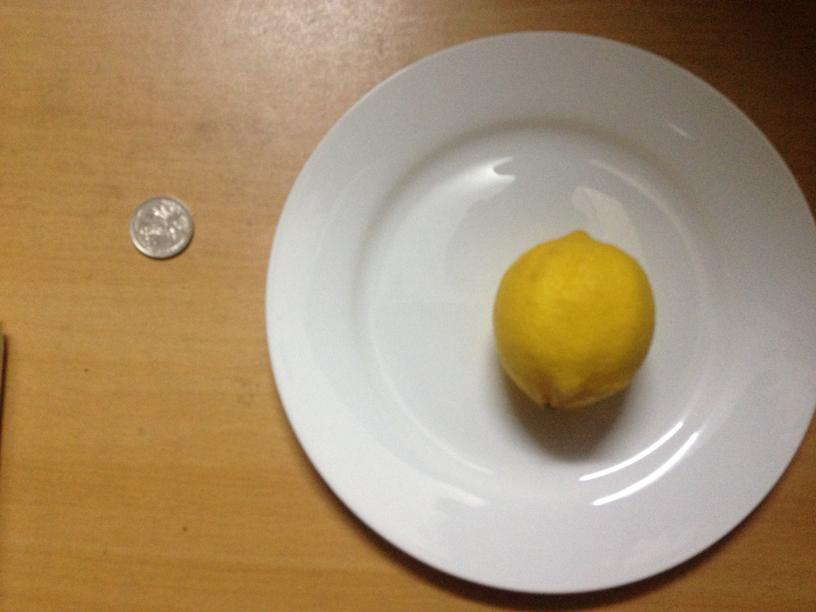coin: (129, 197, 192, 260)
lemon: (496, 232, 655, 412)
